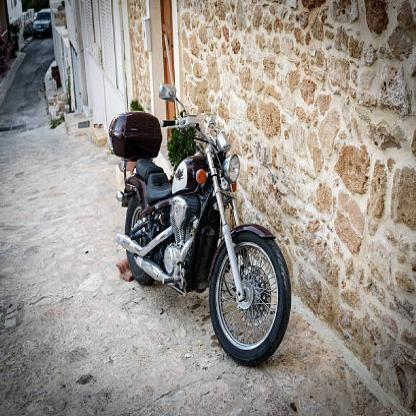Motorcycle: (106, 80, 296, 370)
